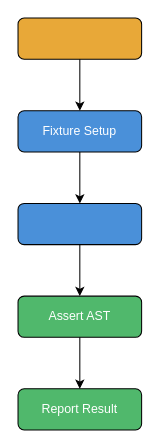
The diagram is 160 pixels wide and 448 high, and some of its shapes have lost their labels. The shapes that lost their labels are listed below. From the top down, each one's centre as x and y in pixels, then its label:
At [79,38]: "Test Runner".
At [79,223]: "Parse JSON Input".
